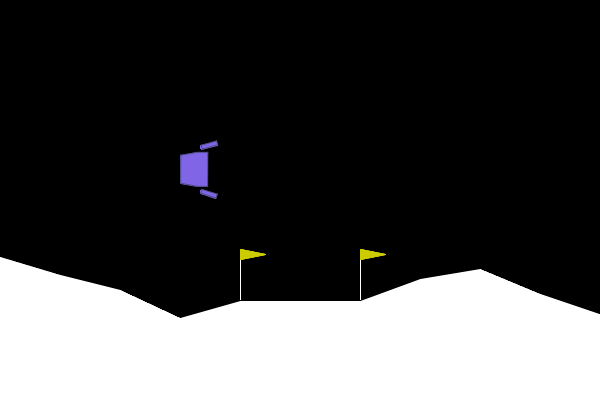lander: (178, 140, 218, 200)
